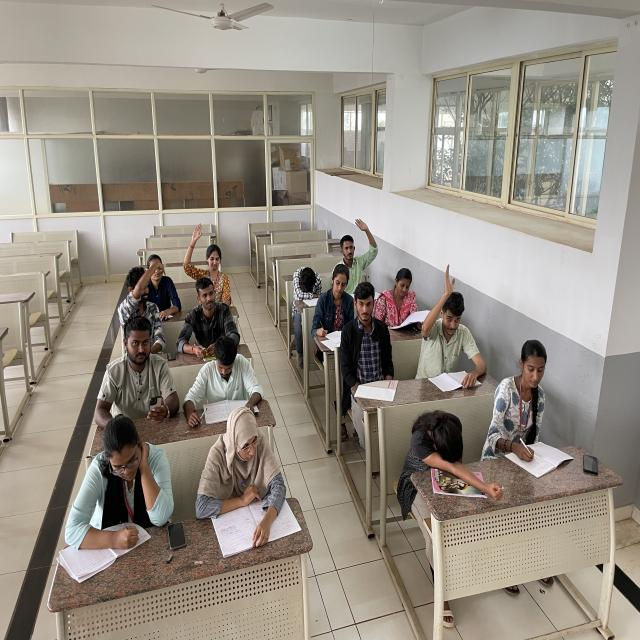Hand Rising: (421, 265, 485, 377), (179, 223, 230, 298), (336, 218, 378, 283)
Reading: (189, 406, 289, 537), (183, 331, 264, 421), (376, 266, 431, 328)
Sleeping: (402, 400, 476, 470), (288, 266, 326, 302)
Using Phone: (98, 311, 184, 434)
Writing: (67, 419, 170, 560), (483, 335, 566, 472), (314, 264, 360, 344)
